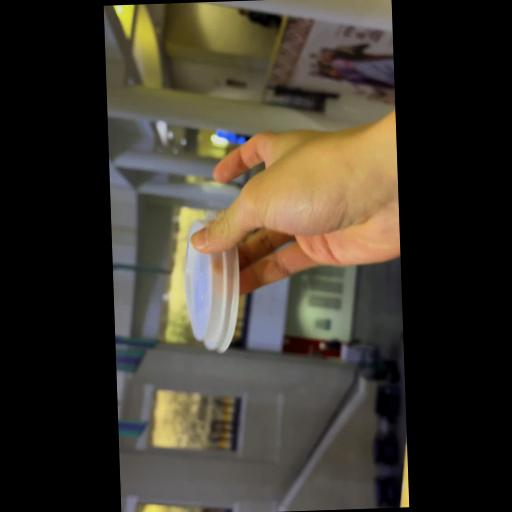lp_cup_lids: (180, 214, 244, 354)
